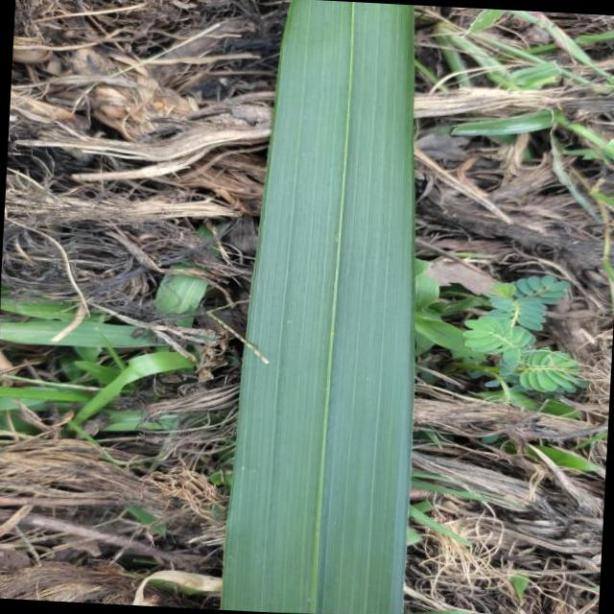Healthy: (226, 0, 418, 614)
